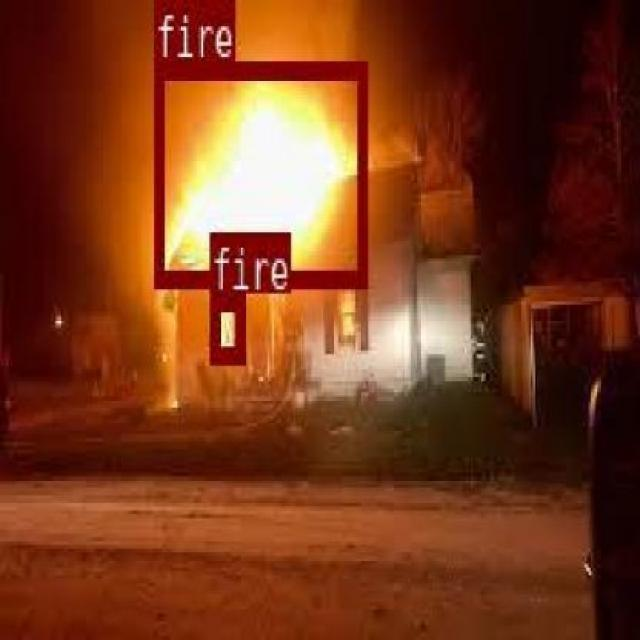fire: (153, 60, 364, 285), (208, 291, 242, 362)
